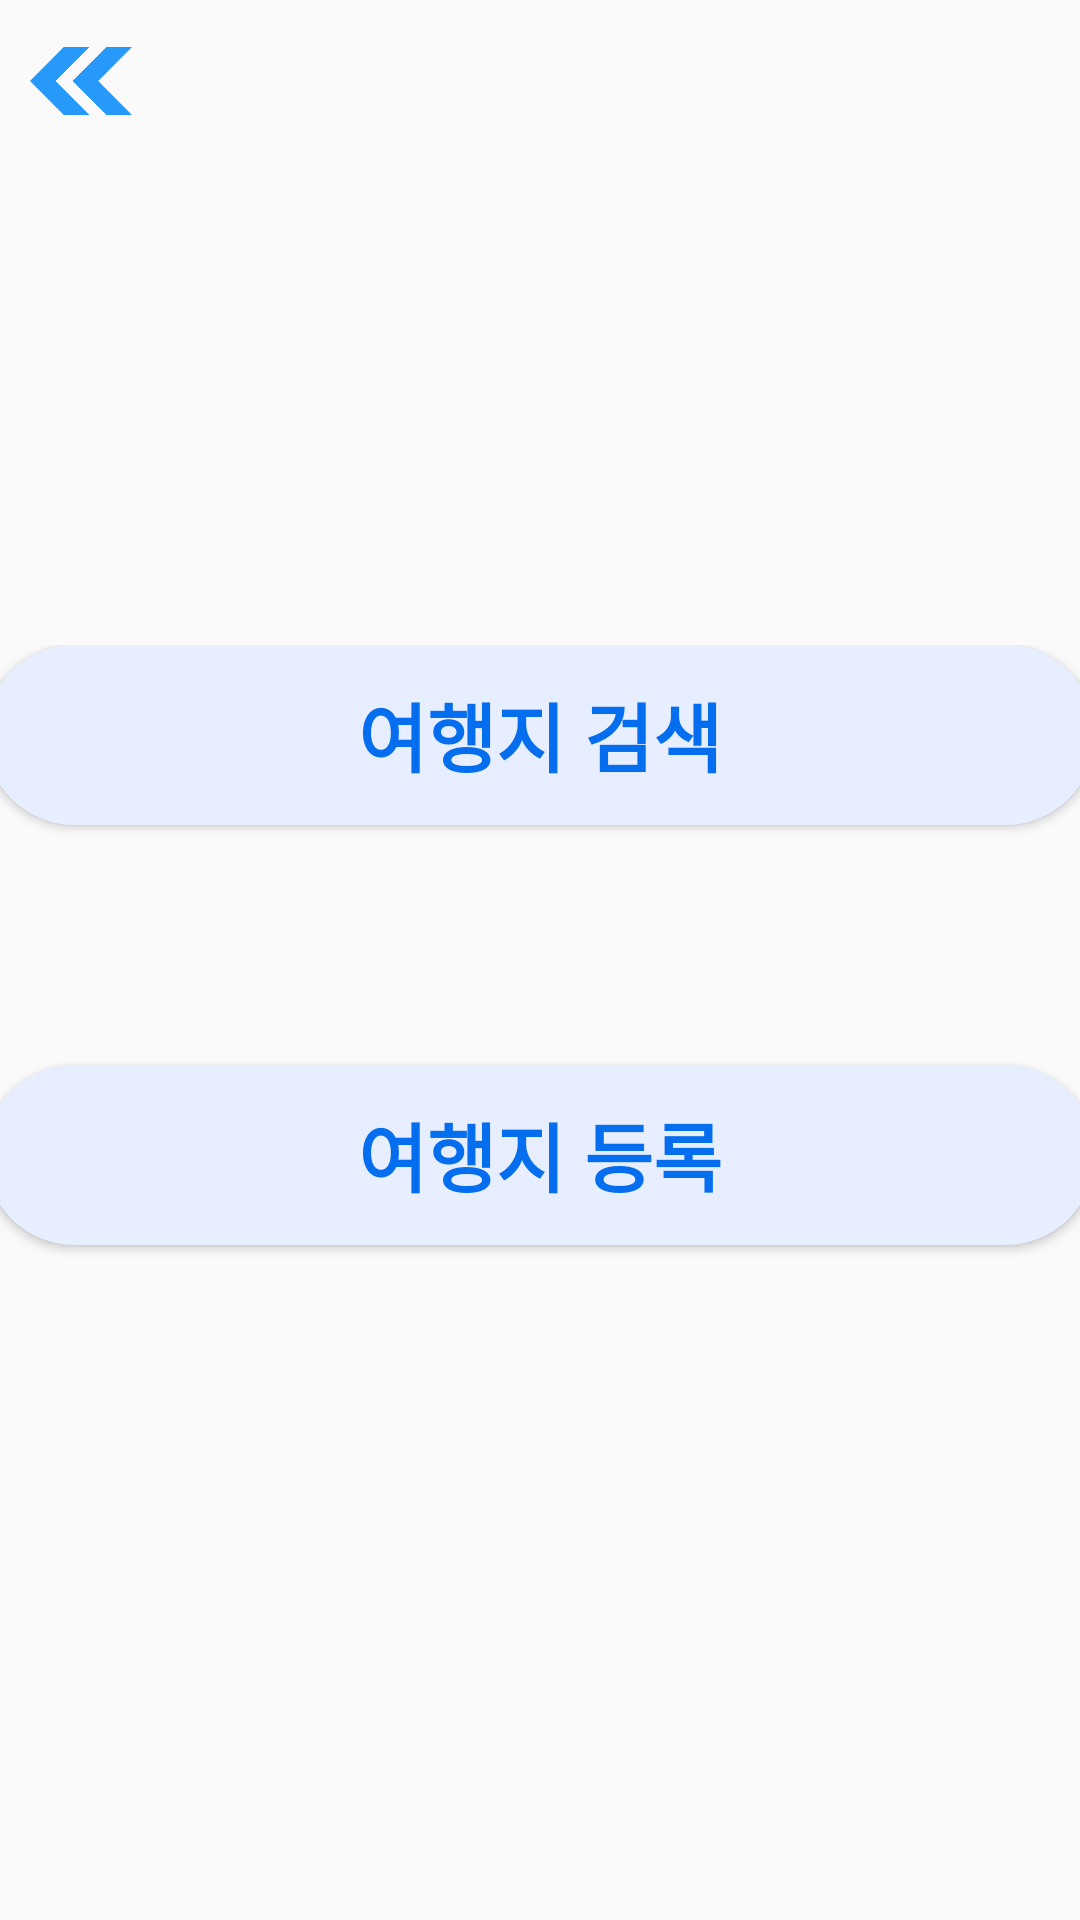

Icons on this 1080 × 1920 Android screen, each with the point to tap as [x,y]:
double arrow: [81,81]
